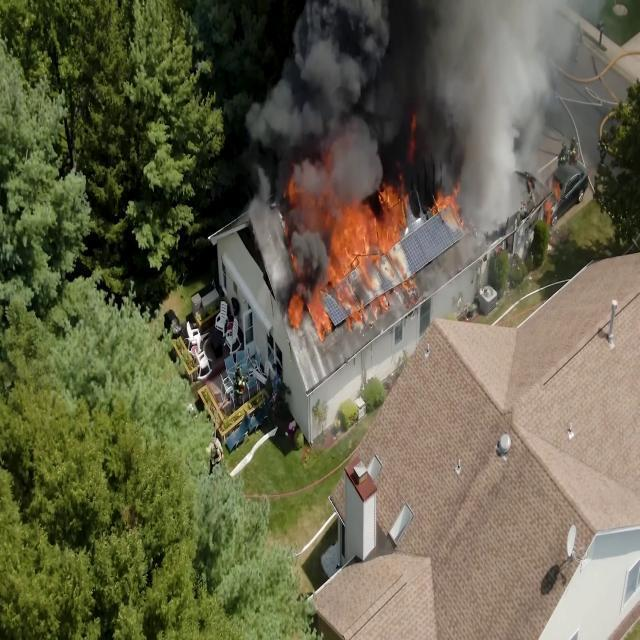Fire: (334, 185, 409, 279)
Smoke: (265, 2, 395, 136), (462, 0, 513, 222)
